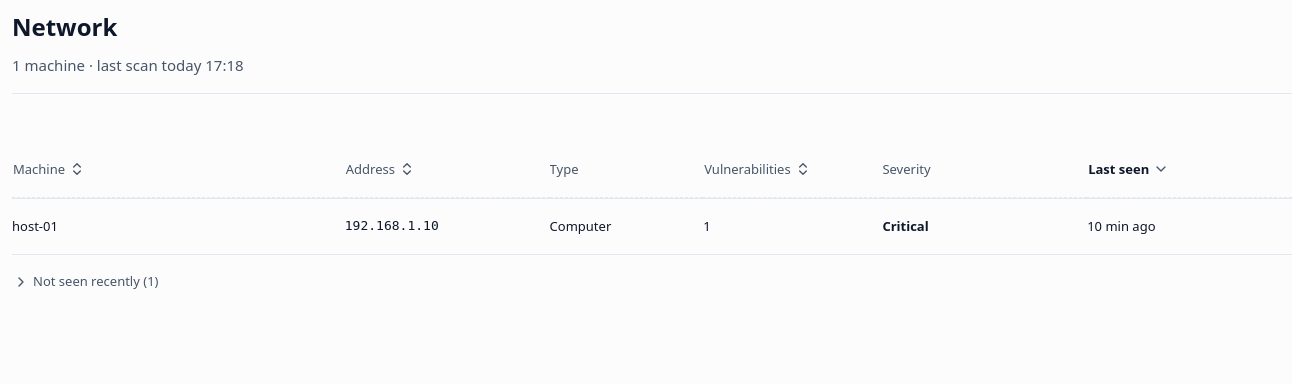
Network › collapses a quiet machine into the group, muted and with its weeks line
Click the button "Not seen recently (1)": x=86, y=282 left=12, top=271, right=160, bottom=292
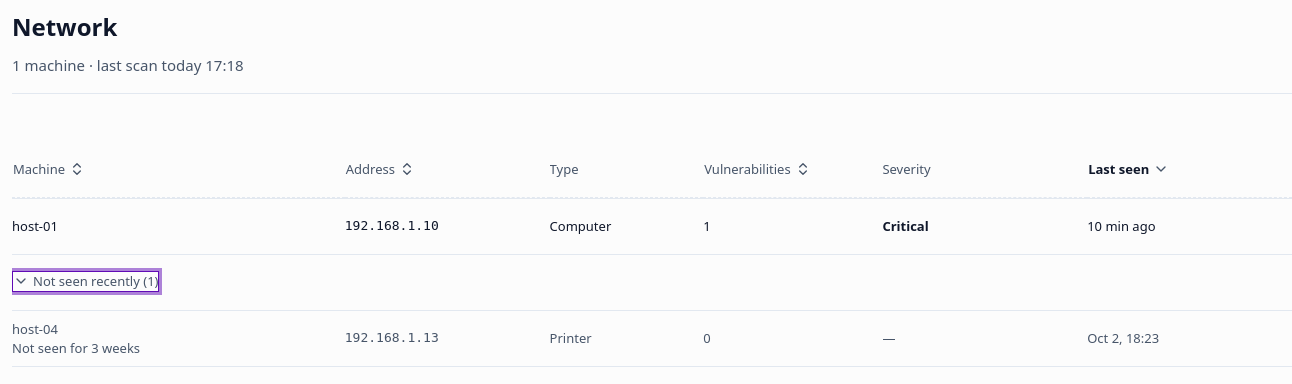
Expected: the button "Not seen recently (1)" is expanded
Click the button "Not seen recently (1)": x=86, y=281 left=12, top=271, right=160, bottom=292
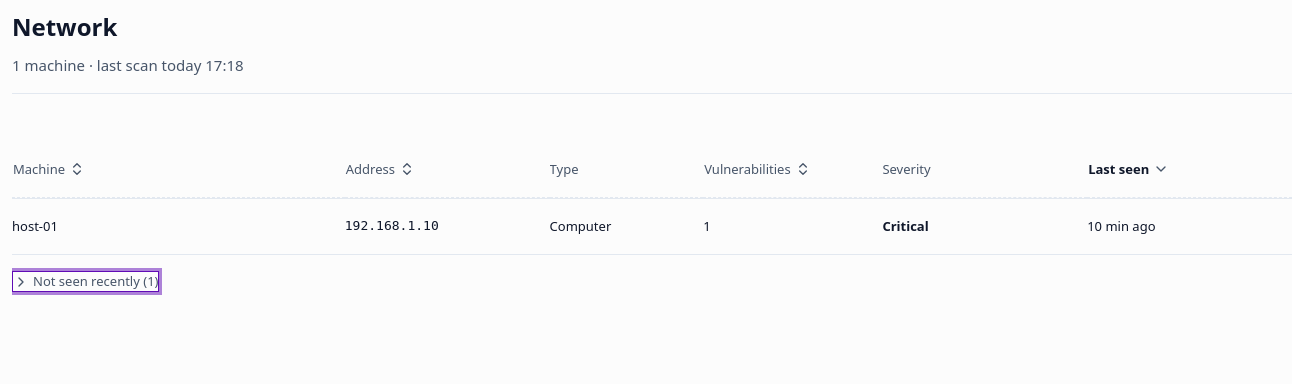
Expected: the button "Not seen recently (1)" is collapsed, left=12, top=271, right=160, bottom=292
